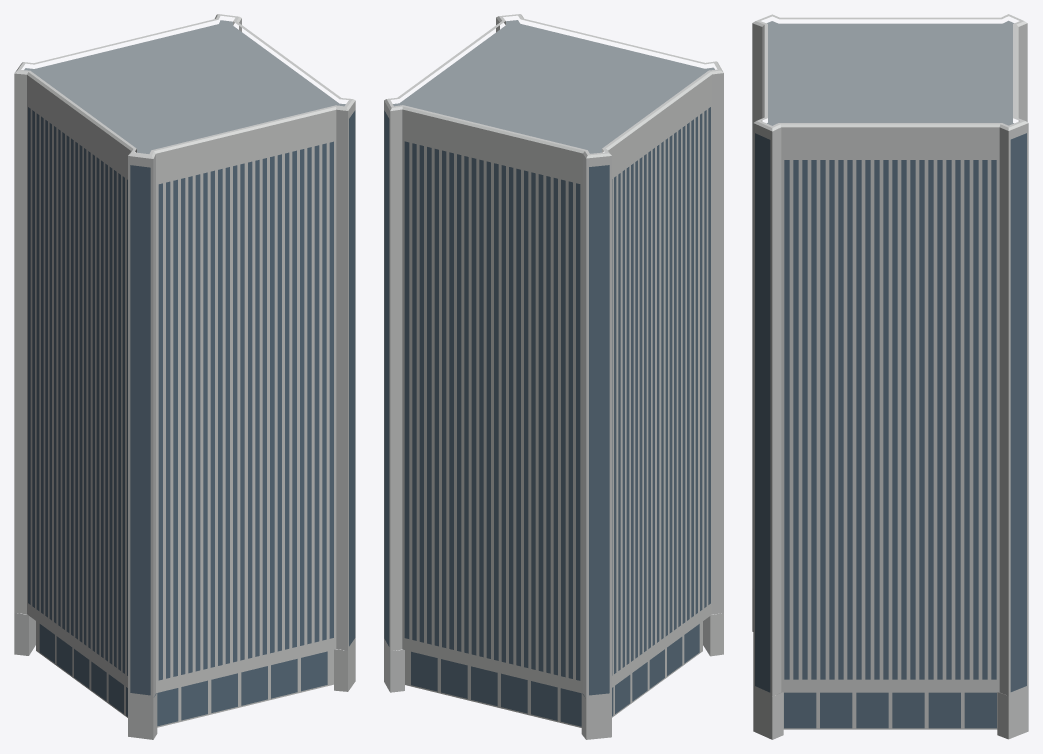
File: ric-federal-reserve-bank.glb
3 renders of one model, left to right at view 1: azimuth 30°, elevation 25°; view 2: azimuth 150°, elevation 25°; view 3: azimuth 270°, elevation 25°, orthographic. The views are drawn at different scales.
Visible parts, largest first — view 1: Federal Reserve Bank of Richmond; view 2: Federal Reserve Bank of Richmond; view 3: Federal Reserve Bank of Richmond.
Part boxes in pixels (left/top/right/bottom): Federal Reserve Bank of Richmond: left=14, top=14, right=355, bottom=739; Federal Reserve Bank of Richmond: left=384, top=14, right=723, bottom=739; Federal Reserve Bank of Richmond: left=752, top=14, right=1028, bottom=739.
Size of the model in its own units: 49.2 by 120 by 49.2.
